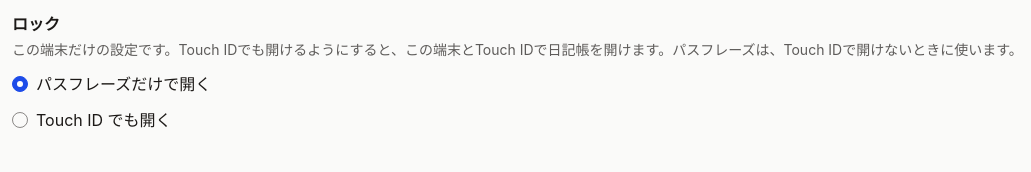
choosing Touch ID turns it on, and choosing the passphrase turns it off
Expected: the radio button labelled "パスフレーズだけで開く" is checked, x1=12 y1=76 x2=28 y2=92
Click the radio button labelled "Touch ID でも開く" at coordinates (20, 120), box x1=12 y1=112 x2=28 y2=128
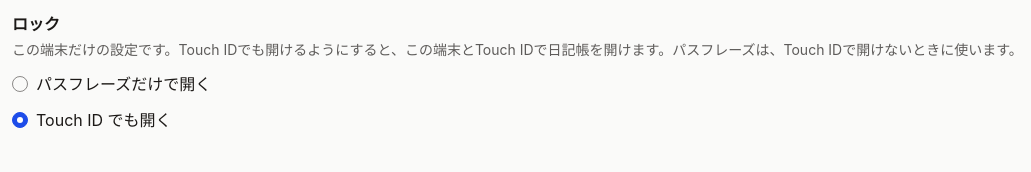
Result: the radio button labelled "Touch ID でも開く" is checked at x1=12 y1=112 x2=28 y2=128
Click the radio button labelled "パスフレーズだけで開く" at coordinates (20, 84), box x1=12 y1=76 x2=28 y2=92
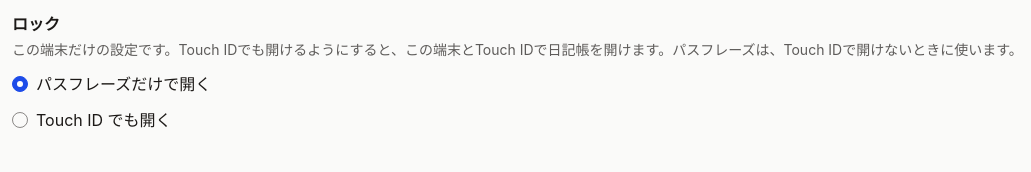
Result: the radio button labelled "パスフレーズだけで開く" is checked at x1=12 y1=76 x2=28 y2=92
